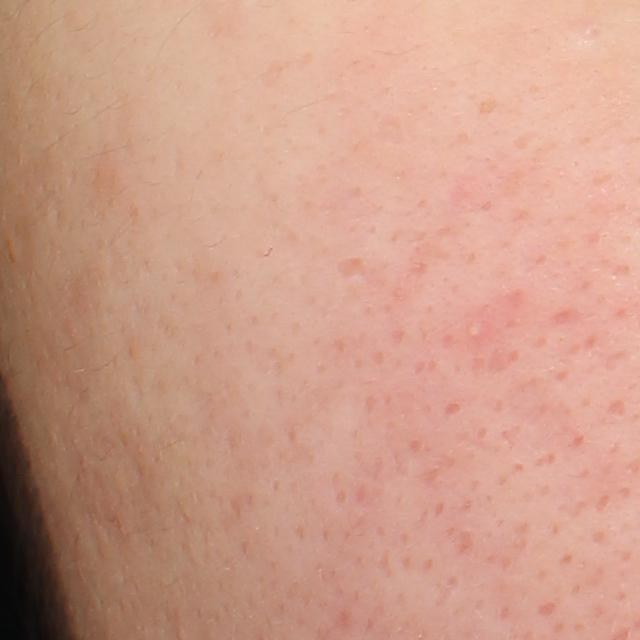atrophic_scar: (322, 253, 376, 280)
pustule: (463, 320, 487, 345)
